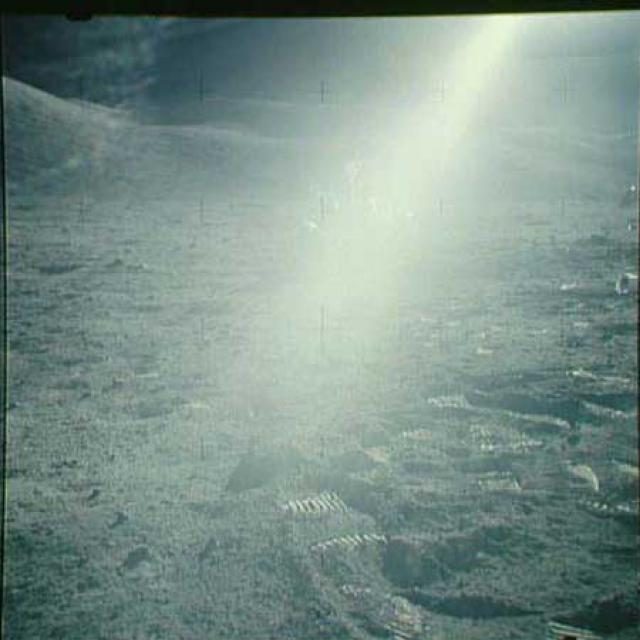crater: (85, 397, 199, 431), (7, 247, 93, 288)
